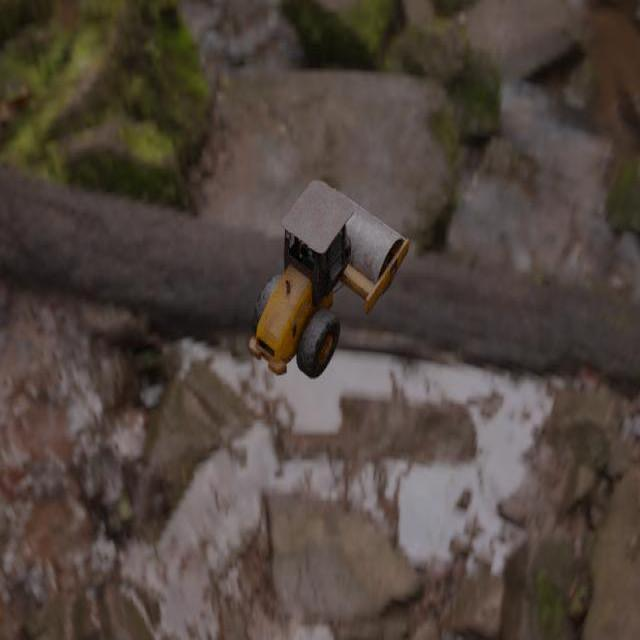Roller: (248, 178, 409, 378)
